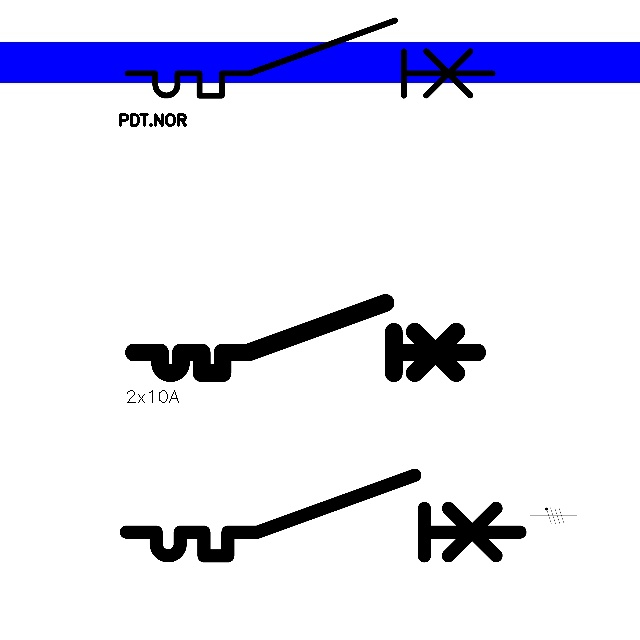interruptor_termomagnetico: (116, 465, 530, 566), (118, 11, 502, 105), (125, 294, 486, 382)
